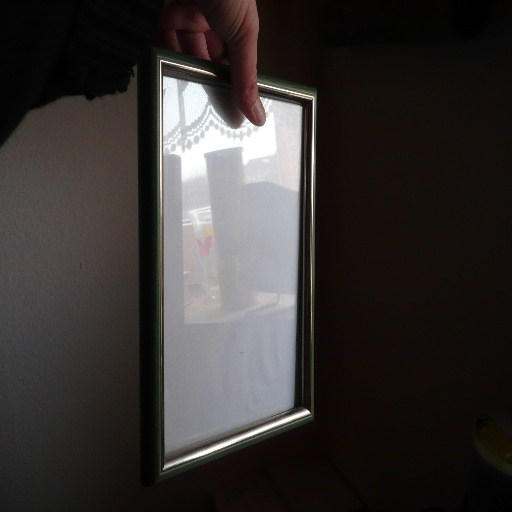hand: (180, 1, 268, 132)
